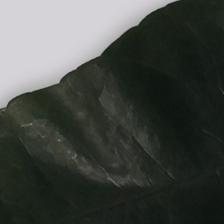healthy: (19, 33, 224, 224)
